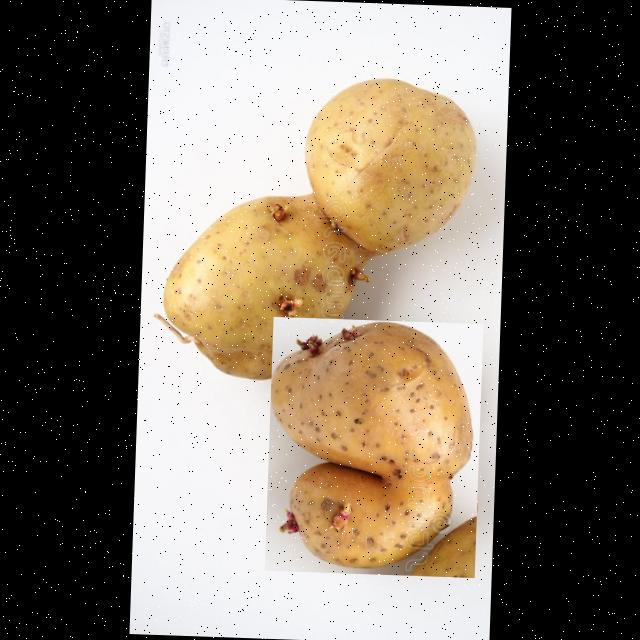Sprouted potato: (144, 62, 484, 380), (264, 316, 483, 576)
